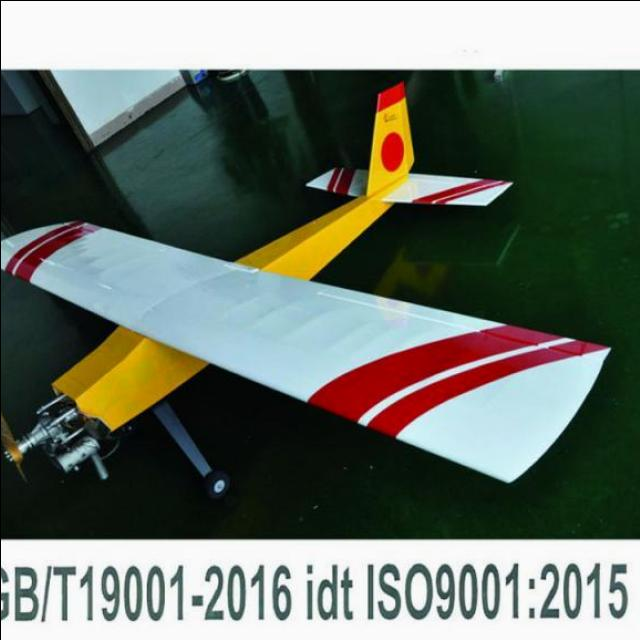plane: (0, 78, 611, 500)
